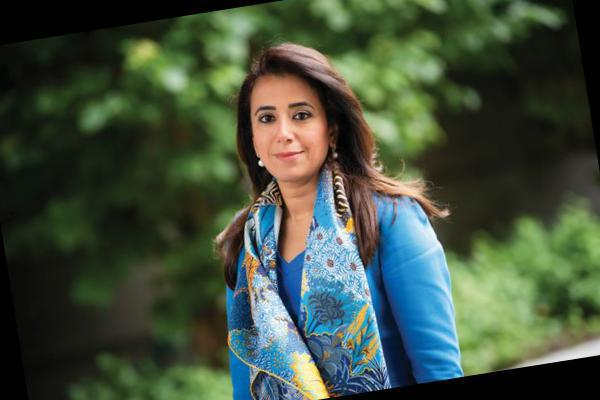Sober: (252, 83, 324, 174)
